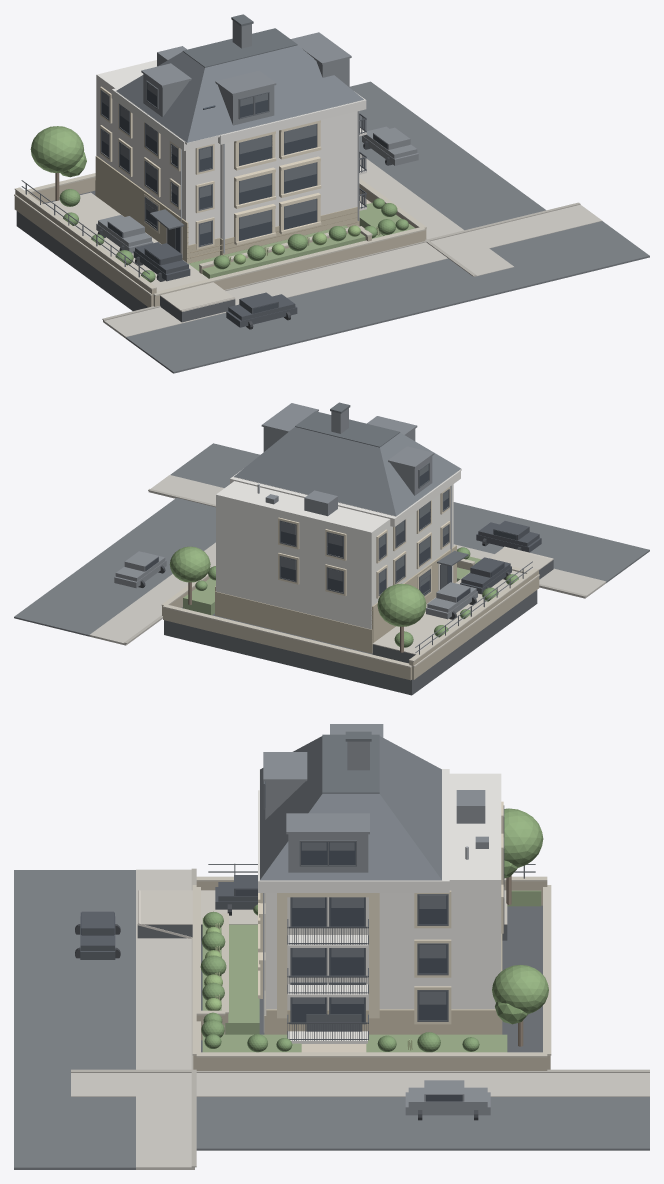
File: corner-block.glb
The picture shows the model from 3 angles, top to bottom: view 1: azimuth 30°, elevation 25°; view 2: azimuth 150°, elevation 25°; view 3: azimuth 270°, elevation 25°; orthographic projection. The views are drawn at different scales.
Visible parts, largest first — view 1: arsa__asfalt, arsa__kaldirim, govde__siva_beyaz, cati__cati_arduvaz, arsa__tas_istinat, cephe__sove_bej, cati__cinko, govde__tas_rustik, cephe__cam, arsa__harpusta, cephe__panjur, arsa__yol_tasi (+14 smaller); view 2: arsa__asfalt, govde__siva_beyaz, cati__cati_arduvaz, arsa__kaide, arsa__tas_istinat, arsa__kaldirim, govde__tas_rustik, cati__cinko, cati__siva_beyaz, bitki__yaprak, arsa__harpusta, arsa__yol_tasi (+12 smaller); view 3: arsa__asfalt, arsa__kaldirim, cati__cati_arduvaz, govde__siva_beyaz, cati__cinko, arsa__cim, arsa__harpusta, arsa__tas_istinat, cephe__cam, cati__siva_beyaz, arsa__kaide, bitki__yaprak (+17 smaller).
Part boxes in pixels (x1,y1,x2,y2): arsa__asfalt: (126, 81, 649, 373); arsa__kaldirim: (103, 154, 602, 338); govde__siva_beyaz: (96, 81, 357, 245); cati__cati_arduvaz: (116, 45, 363, 142); arsa__tas_istinat: (14, 177, 426, 307); cephe__sove_bej: (100, 86, 321, 249); cati__cinko: (141, 20, 351, 125); govde__tas_rustik: (95, 156, 359, 263); cephe__cam: (101, 92, 316, 252); arsa__harpusta: (14, 173, 426, 296); cephe__panjur: (102, 92, 316, 234); arsa__yol_tasi: (43, 192, 235, 311); arsa__asfalt: (14, 443, 649, 636); govde__siva_beyaz: (216, 484, 453, 629); cati__cati_arduvaz: (234, 427, 460, 516); arsa__kaide: (164, 560, 553, 695); arsa__tas_istinat: (162, 561, 539, 680); arsa__kaldirim: (89, 475, 606, 645); govde__tas_rustik: (215, 545, 456, 653); cati__cinko: (261, 403, 434, 516); cati__siva_beyaz: (216, 481, 390, 538); bitki__yaprak: (169, 546, 426, 626); arsa__harpusta: (161, 556, 539, 667); arsa__yol_tasi: (372, 546, 553, 654); arsa__asfalt: (14, 870, 649, 1169); arsa__kaldirim: (71, 869, 649, 1169); cati__cati_arduvaz: (260, 736, 441, 880); govde__siva_beyaz: (265, 887, 501, 1015); cati__cinko: (263, 724, 488, 872); arsa__cim: (202, 890, 541, 1052); arsa__harpusta: (192, 876, 551, 1057); arsa__tas_istinat: (193, 881, 550, 1070); cephe__cam: (291, 895, 447, 1022); cati__siva_beyaz: (449, 773, 501, 888); arsa__kaide: (137, 905, 542, 1052); bitki__yaprak: (492, 808, 548, 1024).
Bounding box in the file's own units: 37 × 16.6 × 33.4.
